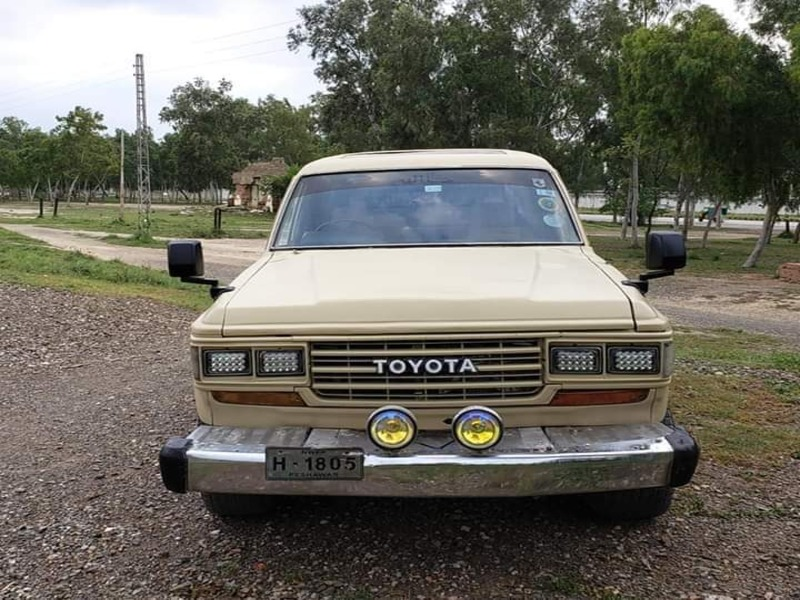License Plate: (262, 443, 368, 483)
